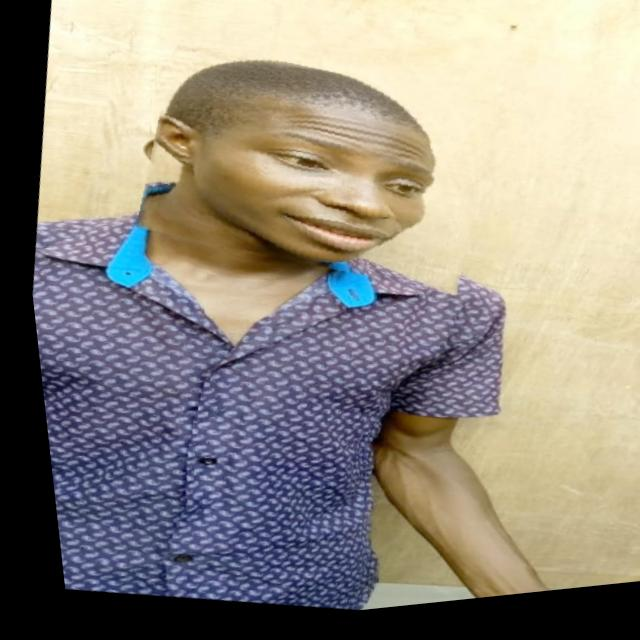happy: (115, 25, 507, 323)
